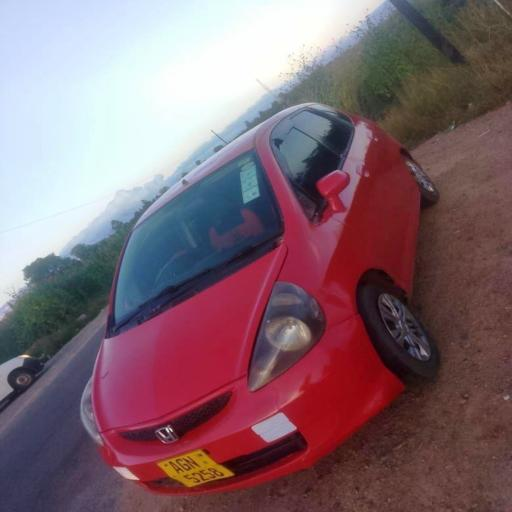number-plates: (156, 452, 234, 486)
